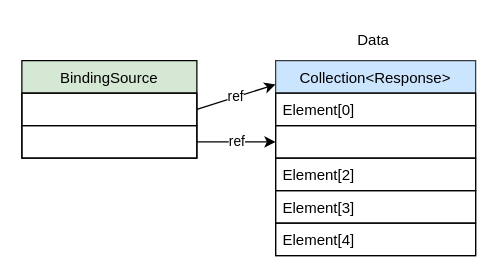
Some shapes in this 498 by 280 pixel diagram are drawn without their labels. The box of each missing label's shape, as (x1, y1, x2, y2) in pixels:
Current: (21, 124, 197, 158)
DataSource: (21, 92, 197, 126)
Element[1]: (274, 124, 476, 158)
